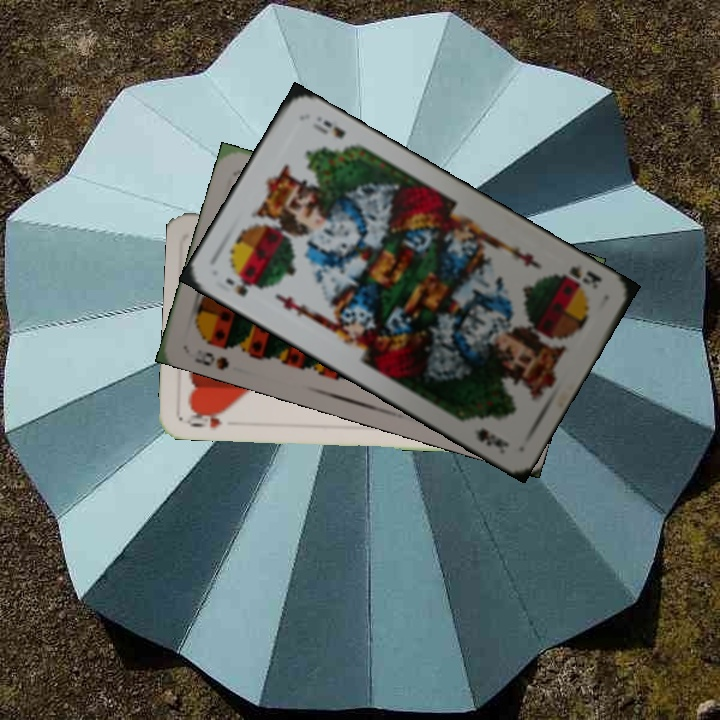HO: (183, 404, 232, 431)
S8: (190, 348, 232, 373)
SK: (565, 260, 605, 292), (221, 274, 254, 299)
